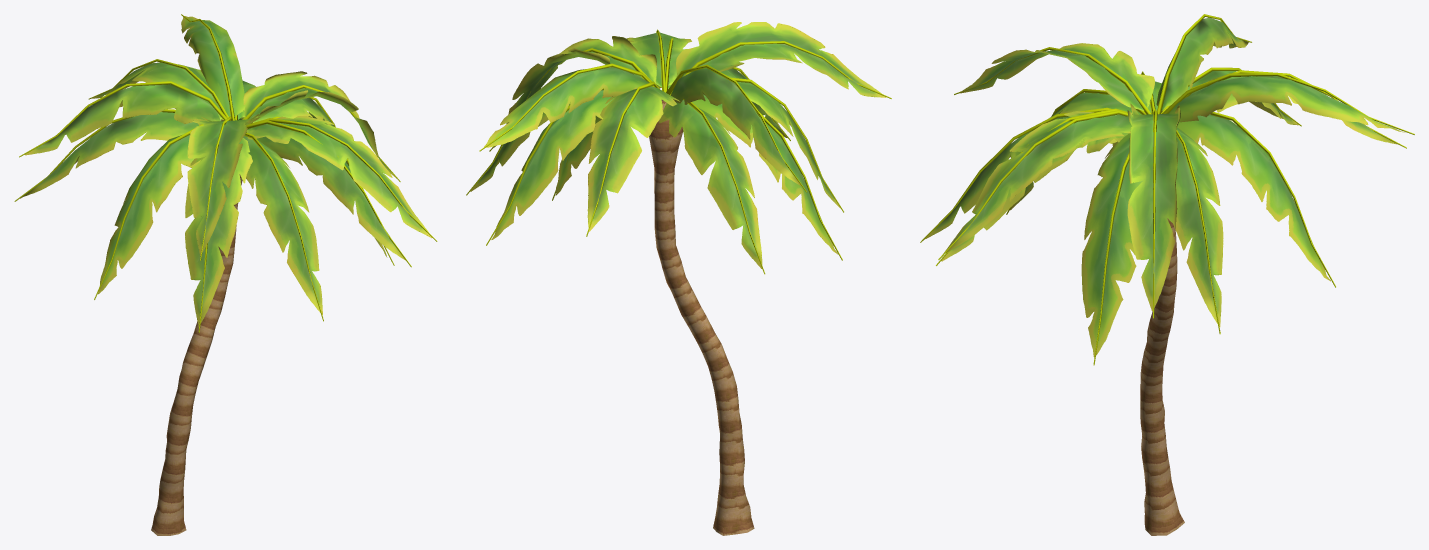
File: SM_PalmTree_var1.fbx
The picture shows the model from 3 angles, left to right: view 1: azimuth 30°, elevation 25°; view 2: azimuth 150°, elevation 25°; view 3: azimuth 270°, elevation 25°; orthographic projection. The views are drawn at different scales.
Parts seen in each view (by area): view 1: SM_PalmTree_var4; view 2: SM_PalmTree_var4; view 3: SM_PalmTree_var4.
Part boxes in pixels (<box>): SM_PalmTree_var4: <box>14,14,437,535</box>; SM_PalmTree_var4: <box>466,22,891,535</box>; SM_PalmTree_var4: <box>920,14,1414,535</box>.
Bounding box in the file's own units: 399 × 499 × 441.
